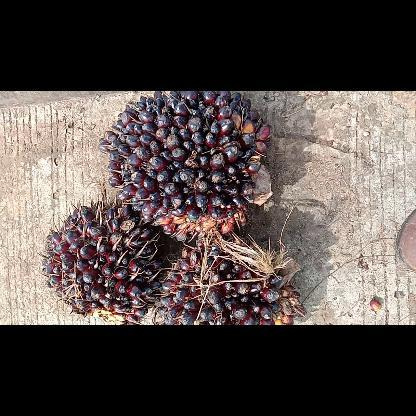TBS mentah: (97, 91, 277, 243), (39, 198, 167, 324), (155, 236, 311, 324)
